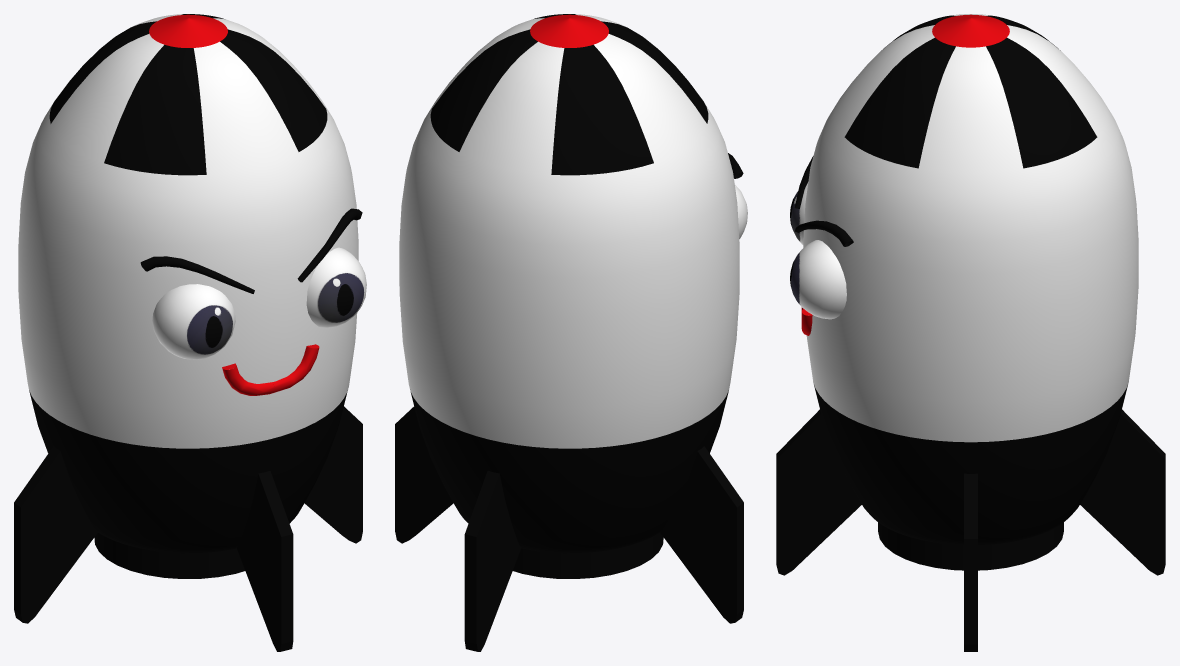
Rendered from Rocket.fbx.
3 views of the same model, side by side, from view 1: azimuth 30°, elevation 25°; view 2: azimuth 150°, elevation 25°; view 3: azimuth 270°, elevation 25° (orthographic).
Visible parts, largest first — view 1: RocketBody, Fuse1, RocketEyes, Fuse2, Fuse3, RocketBase, BezierCurve, RocketSmile; view 2: RocketBody, Fuse1, Fuse4, Fuse3, RocketBase; view 3: RocketBody, Fuse2, Fuse4, RocketBase, RocketEyes, Fuse3, BezierCurve.
Part boxes in pixels (box(x1,y1,x2,y2)): RocketBody: box(18, 14, 358, 553); Fuse1: box(14, 446, 97, 623); RocketEyes: box(152, 247, 366, 359); Fuse2: box(237, 471, 293, 651); Fuse3: box(304, 406, 362, 543); RocketBase: box(94, 532, 245, 578); BezierCurve: box(140, 208, 362, 293); RocketSmile: box(222, 344, 319, 395); RocketBody: box(399, 14, 739, 553); Fuse1: box(660, 446, 743, 623); Fuse4: box(464, 470, 521, 651); Fuse3: box(395, 406, 453, 543); RocketBase: box(513, 533, 663, 578); RocketBody: box(803, 14, 1138, 544); Fuse2: box(776, 409, 861, 575); Fuse4: box(1080, 409, 1165, 575); RocketBase: box(878, 522, 1063, 570); RocketEyes: box(790, 182, 846, 319); Fuse3: box(964, 473, 977, 651); BezierCurve: box(794, 156, 853, 246).
Size of the model in its own units: 1.71 by 2.68 by 1.71.
